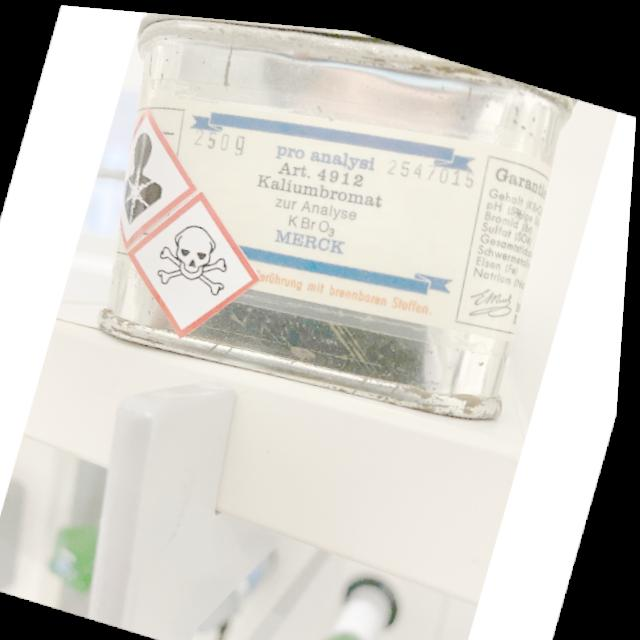acute toxicity: (154, 212, 243, 299)
serious health hazard: (116, 126, 179, 229)
